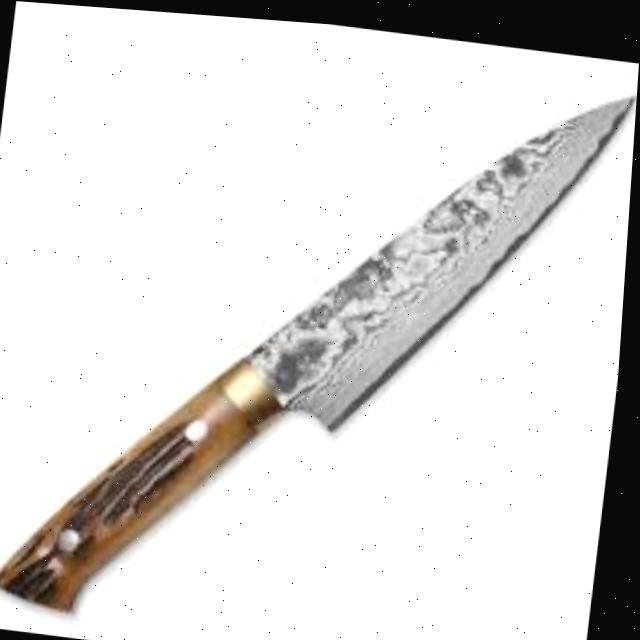Knife: (0, 18, 639, 640)
